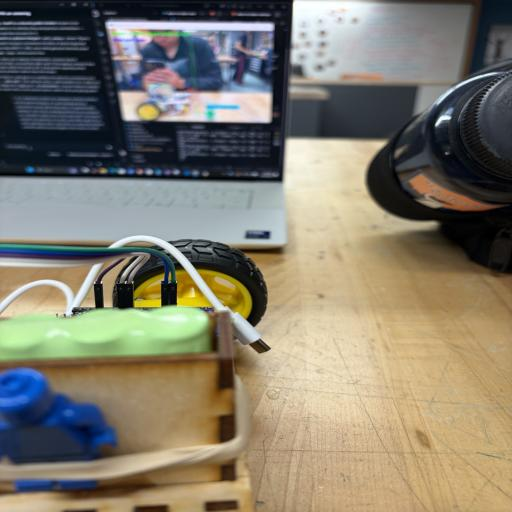Blue-Lego: (0, 367, 117, 464), (14, 477, 97, 492)
